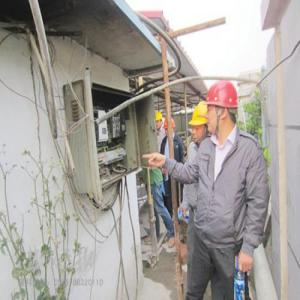red: (207, 79, 241, 138)
yellow: (190, 103, 209, 144), (155, 111, 164, 130)
